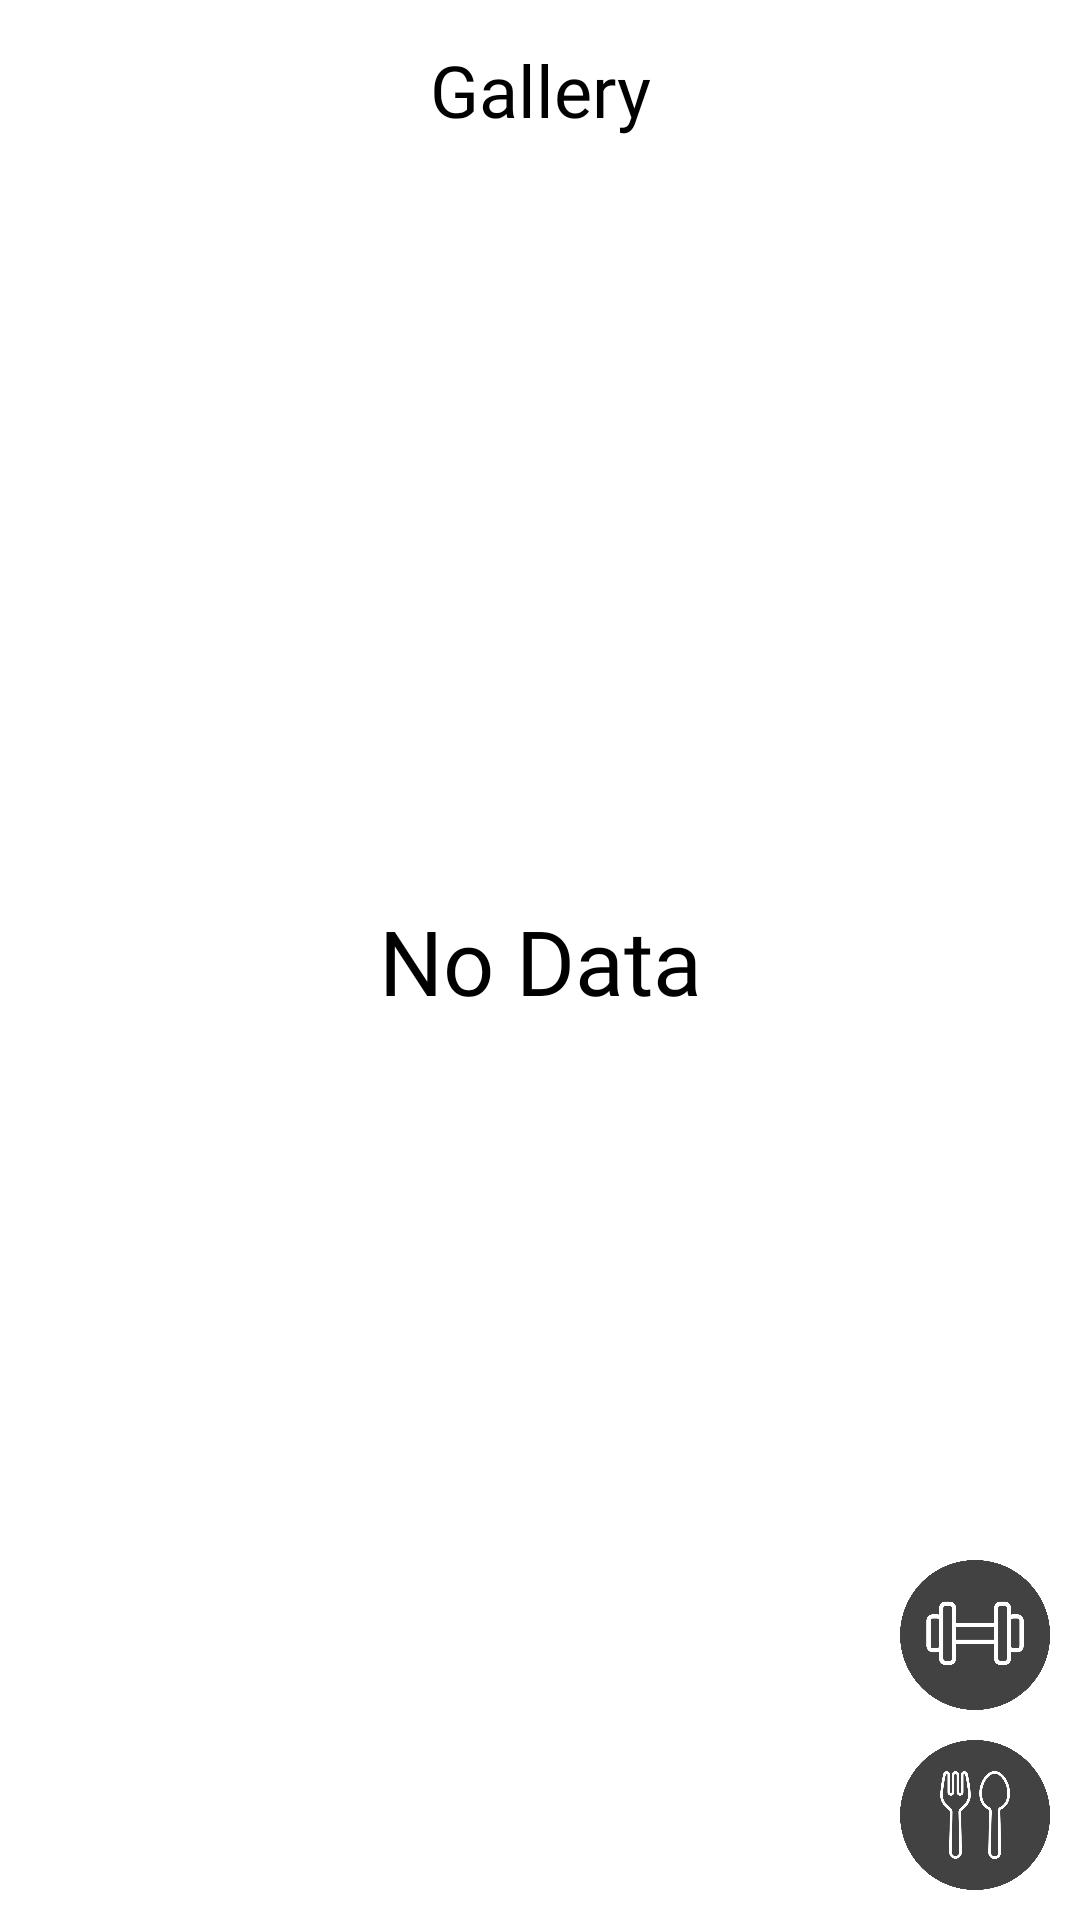

Icons on this 1080×1920 Android screen, each with the point to tap as [x,y]:
Diet Button: [975,1815]
Exersize Button: [975,1635]
